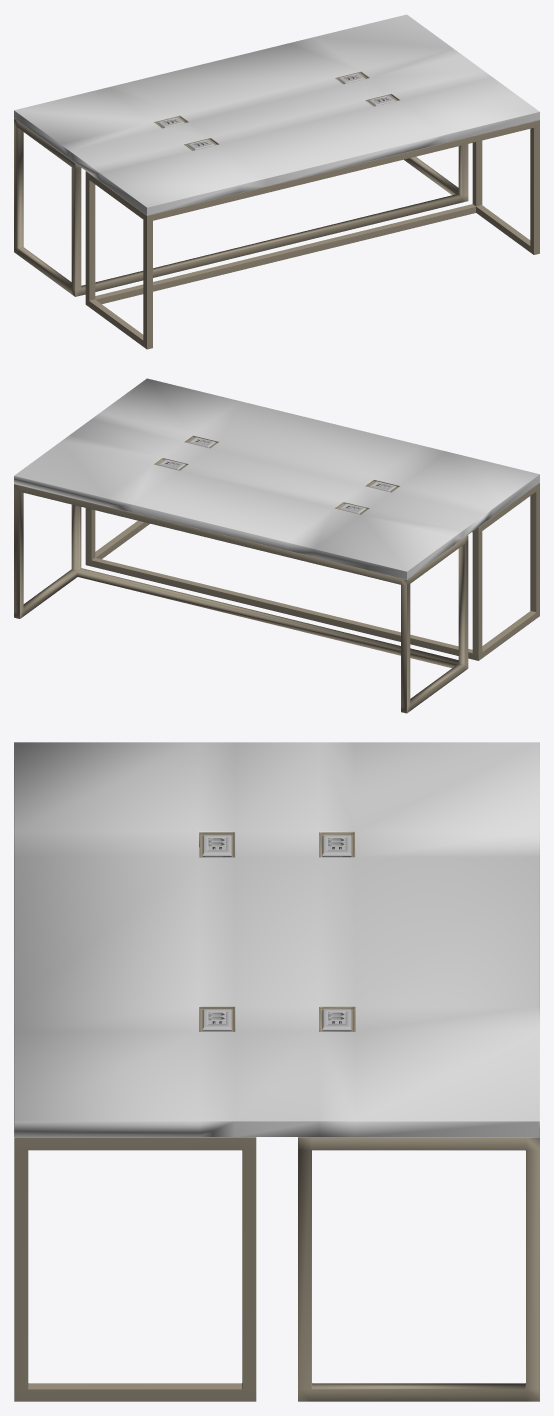
The model's file is CoworkingTable.fbx.
The picture shows the model from 3 angles, top to bottom: view 1: azimuth 30°, elevation 25°; view 2: azimuth 150°, elevation 25°; view 3: azimuth 270°, elevation 25°; orthographic projection. The views are drawn at different scales.
Parts seen in each view (by area): view 1: CoworkingTable; view 2: CoworkingTable; view 3: CoworkingTable.
Part boxes in pixels (<box>): CoworkingTable: <box>14,14,539,349</box>; CoworkingTable: <box>14,378,539,713</box>; CoworkingTable: <box>14,742,539,1401</box>.
Bounding box in the file's own units: 222 × 76.81 × 130.
